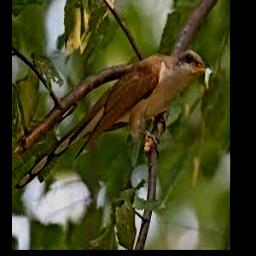Cuckoo: (15, 50, 213, 189)
